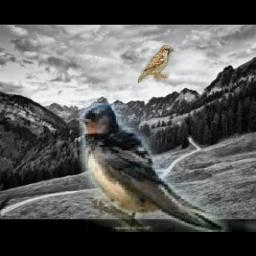Sparrow: (138, 45, 173, 83)
Swallow: (78, 104, 256, 233)
